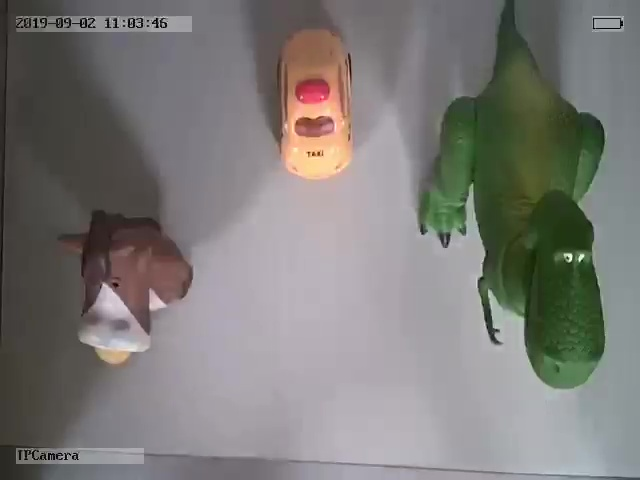car: (274, 23, 356, 179)
horse: (57, 209, 193, 367)
rex: (417, 4, 607, 390)
